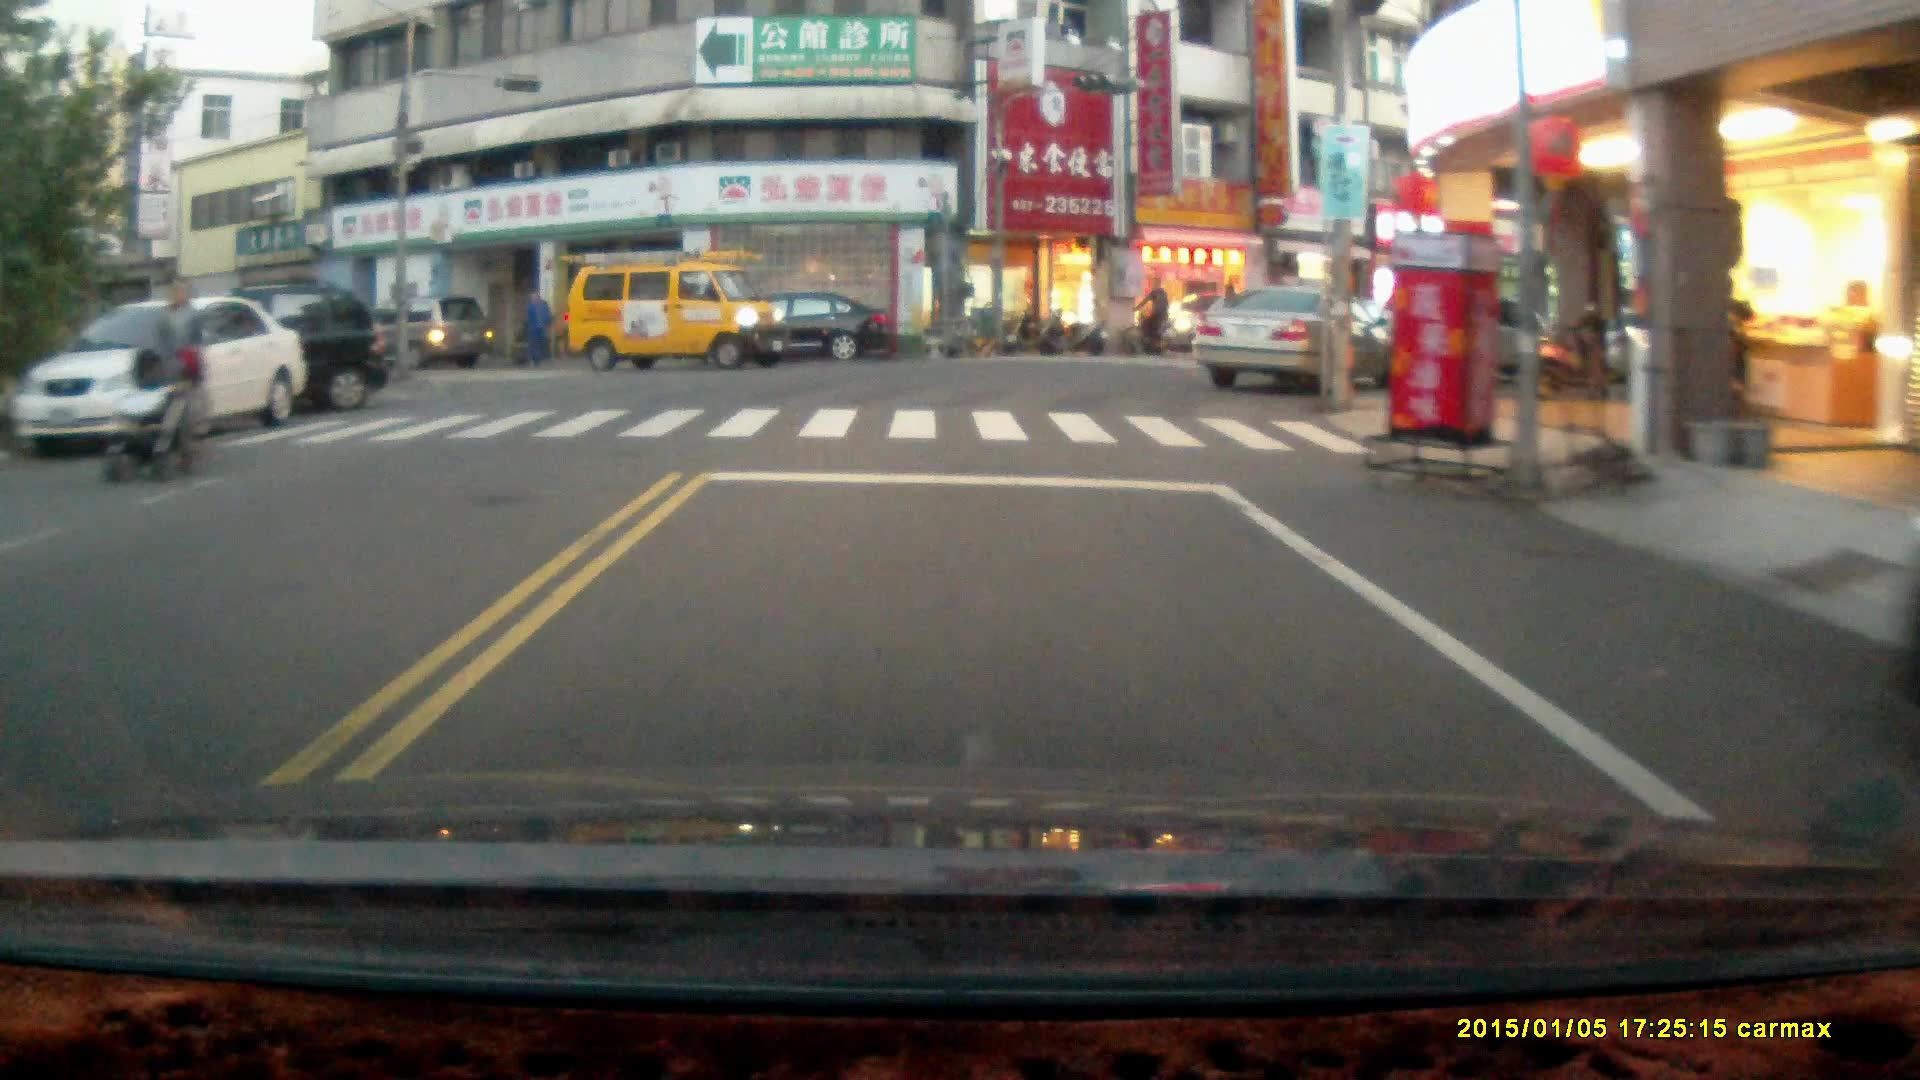pedestrian: (151, 278, 204, 453), (523, 286, 552, 365)
rider: (98, 336, 204, 485), (1119, 273, 1180, 358)
vehicle: (30, 294, 297, 450), (102, 276, 392, 413), (569, 245, 793, 369), (1195, 283, 1391, 397), (717, 294, 890, 369), (358, 293, 493, 371)
